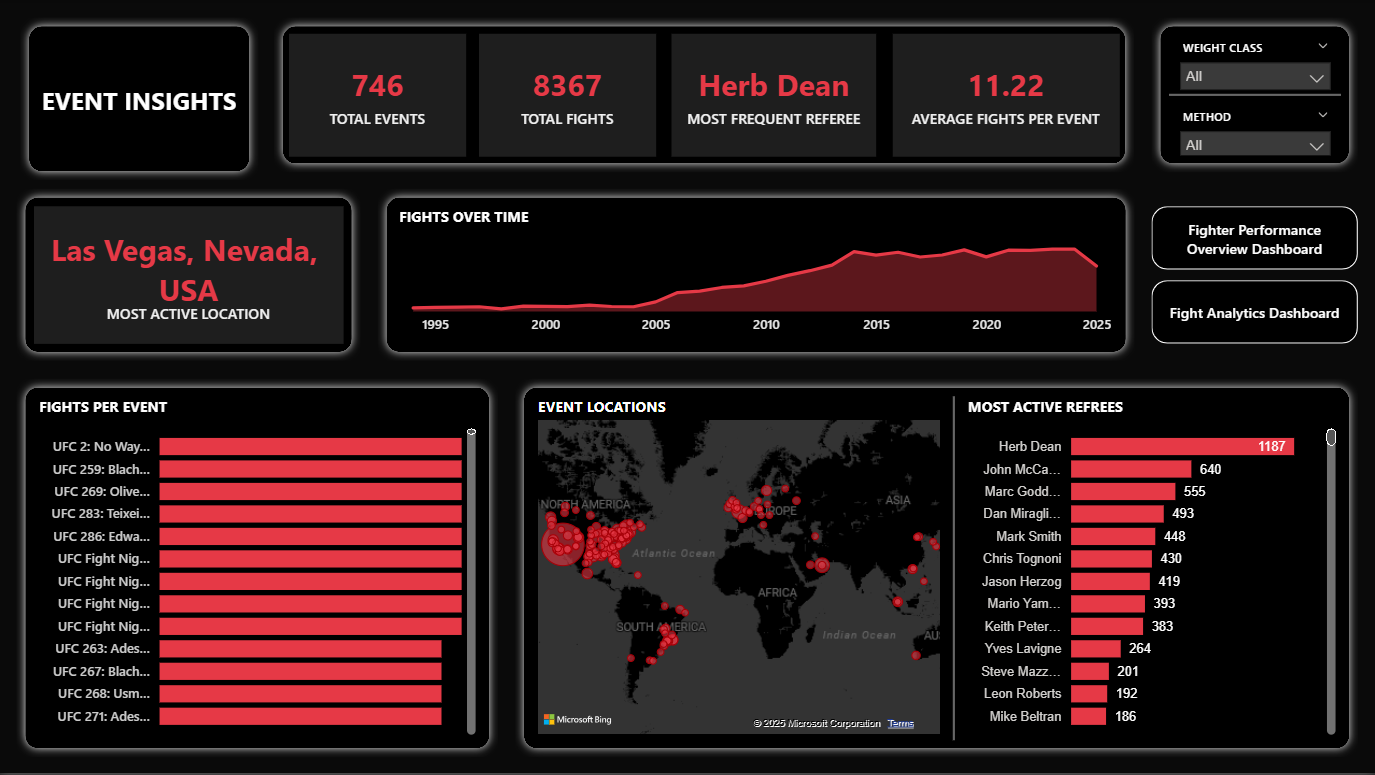

Layout of this report page (visuals, bound fields, positions):
{"tool":"powerbi","page":{"name":"Event Insights Dashboard","canvas":[1280,720],"ordinal":1},"visuals":[{"type":"shape","box":[20,16.2,221.2,151.2],"z":0},{"type":"shape","box":[16,176,320,160],"z":0,"group":"g4"},{"type":"shape","box":[256,16,800,144],"z":1000,"group":"g5"},{"type":"pageNavigator","box":[1072,192,192,128],"z":1000},{"type":"card","fields":{"Values":["Count(Events.Event_Id)"]},"box":[269.8,31.5,165,114.2],"z":2000,"group":"g5"},{"type":"group","id":"g1","title":"Group 1","box":[352,176,704,160],"z":2000},{"type":"group","id":"g2","title":"Group 2","box":[480,352,784,352],"z":3000},{"type":"card","fields":{"Values":["Fights.Total Fights"]},"box":[446.3,31.5,165,114.2],"z":4000,"group":"g5"},{"type":"group","id":"g3","title":"Group 3","box":[16,352,448,352],"z":4000},{"type":"group","id":"g4","title":"Group 4","box":[16,176,320,160],"z":5000},{"type":"card","fields":{"Values":["Events.Most Active Location"]},"box":[32,192,288,128],"z":5000,"group":"g4"},{"type":"group","id":"g5","title":"Group 5","box":[256,16,800,144],"z":6000},{"type":"card","fields":{"Values":["Fights.Most Frequent Referee"]},"box":[626,31,190.7,114.2],"z":6000,"group":"g5"},{"type":"shape","box":[1072,16,192,144],"z":7000,"group":"g6"},{"type":"card","fields":{"Values":["Fights.Average Fights Per Event"]},"box":[831.4,31,210.9,114.2],"z":7000,"group":"g5"},{"type":"slicer","fields":{"Values":["Fighters Stats.Weight_Class"]},"box":[1088,32,160,64],"z":8000,"group":"g6"},{"type":"shape","box":[16,352,448,352],"z":8000,"group":"g3"},{"type":"slicer","fields":{"Values":["Fights.Method"]},"box":[1088,96,160,48],"z":9000,"group":"g6"},{"type":"barChart","title":"FIGHTS PER EVENT","fields":{"Category":["Events.Name"],"Y":["Fights.Total Fights"]},"box":[32,368,416,320],"z":9000,"group":"g3"},{"type":"shape","box":[1088,80,160,16],"z":10000,"group":"g6"},{"type":"shape","box":[352,176,704,160],"z":10000,"group":"g1"},{"type":"group","id":"g6","title":"Group 6","box":[1072,16,192,144],"z":10001},{"type":"lineChart","title":"FIGHTS OVER TIME","fields":{"Category":["Calendar.Date.Variation.Date Hierarchy.Year","Calendar.Date.Variation.Date Hierarchy.Quarter","Calendar.Date.Variation.Date Hierarchy.Month","Calendar.Date.Variation.Date Hierarchy.Day"],"Y":["Fights.Total Fights"]},"box":[367.6,192,672.7,128],"z":11000,"group":"g1"},{"type":"shape","box":[480,352,784,352],"z":12000,"group":"g2"},{"type":"map","title":"EVENT LOCATIONS","fields":{"Category":["Events.Location"],"Size":["CountNonNull(Events.Event_Id)"]},"box":[496,368,384,320],"z":13000,"group":"g2"},{"type":"barChart","title":"MOST ACTIVE REFREES","fields":{"Y":["Fights.Total Fights"],"Category":["Fights.Referee"]},"box":[896,368,352,320],"z":14000,"group":"g2"},{"type":"shape","box":[880,368,16,320],"z":15000,"group":"g2"}]}

Visuals, with their boxes in screenshot pixels (x1, y1, x2, y2), scaled from the page's 1280x720 canvas onto the 1375x775 screenshot:
shape: l=21, t=17, r=259, b=180
shape: l=17, t=189, r=361, b=362
shape: l=275, t=17, r=1134, b=172
pageNavigator: l=1152, t=207, r=1358, b=344
card - Count(Events.Event_Id): l=290, t=34, r=467, b=157
"Group 1" group: l=378, t=189, r=1134, b=362
"Group 2" group: l=516, t=379, r=1358, b=758
card - Fights.Total Fights: l=479, t=34, r=657, b=157
"Group 3" group: l=17, t=379, r=498, b=758
"Group 4" group: l=17, t=189, r=361, b=362
card - Events.Most Active Location: l=34, t=207, r=344, b=344
"Group 5" group: l=275, t=17, r=1134, b=172
card - Fights.Most Frequent Referee: l=672, t=33, r=877, b=156
shape: l=1152, t=17, r=1358, b=172
card - Fights.Average Fights Per Event: l=893, t=33, r=1120, b=156
slicer - Fighters Stats.Weight_Class: l=1169, t=34, r=1341, b=103
shape: l=17, t=379, r=498, b=758
slicer - Fights.Method: l=1169, t=103, r=1341, b=155
"FIGHTS PER EVENT" barChart: l=34, t=396, r=481, b=741
shape: l=1169, t=86, r=1341, b=103
shape: l=378, t=189, r=1134, b=362
"Group 6" group: l=1152, t=17, r=1358, b=172
"FIGHTS OVER TIME" lineChart: l=395, t=207, r=1118, b=344
shape: l=516, t=379, r=1358, b=758
"EVENT LOCATIONS" map: l=533, t=396, r=945, b=741
"MOST ACTIVE REFREES" barChart: l=962, t=396, r=1341, b=741
shape: l=945, t=396, r=962, b=741
